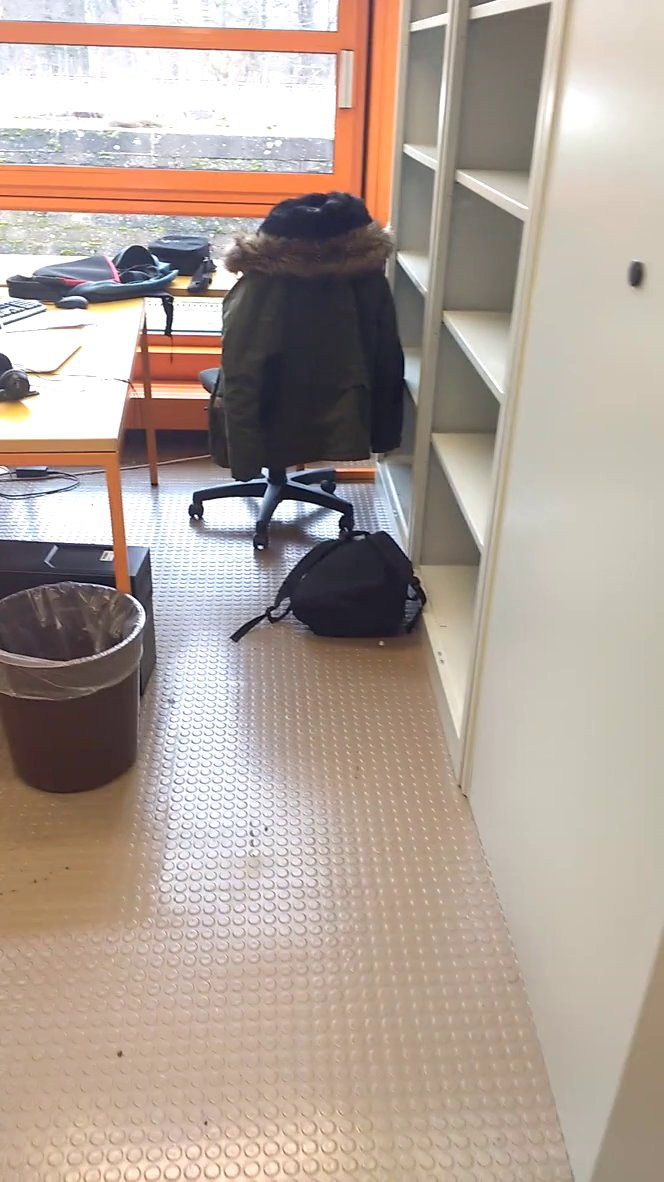bag: (229, 513, 441, 659)
bin: (1, 570, 153, 807)
